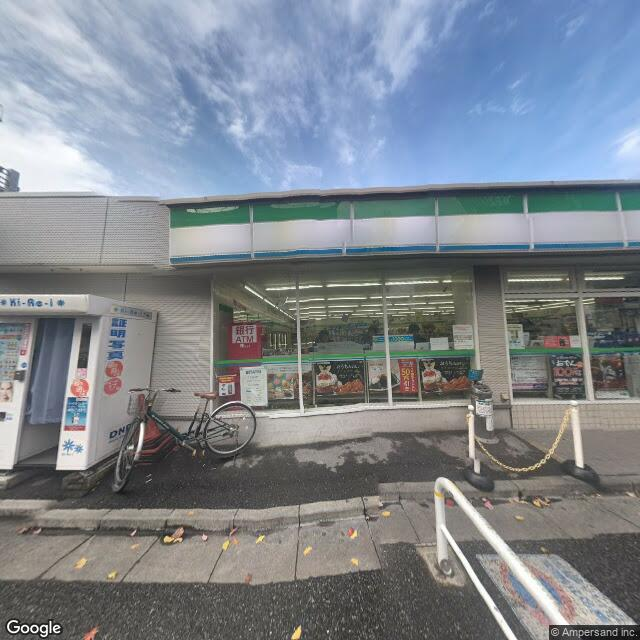family_mart: (166, 182, 637, 269)
